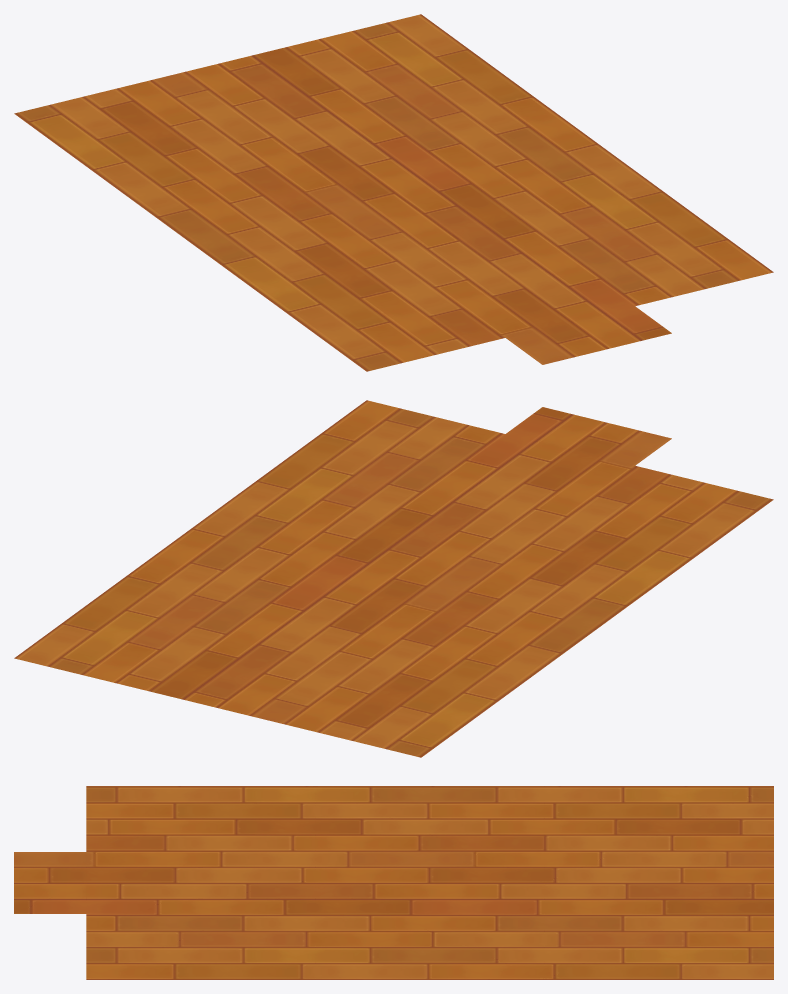
The model's file is Floor02_a02.FBX.
3 renders of one model, top to bottom at view 1: azimuth 30°, elevation 25°; view 2: azimuth 150°, elevation 25°; view 3: azimuth 270°, elevation 25°, orthographic. The views are drawn at different scales.
Visible parts, largest first — view 1: Floor02_a02; view 2: Floor02_a02; view 3: Floor02_a02.
Boxes of the visible parts, left/top/right/bottom form: Floor02_a02: left=14, top=14, right=773, bottom=371; Floor02_a02: left=14, top=400, right=773, bottom=757; Floor02_a02: left=14, top=786, right=773, bottom=979.
Size of the model in its own units: 600 by 0.000446 by 995.
1 material, 1 textured.
